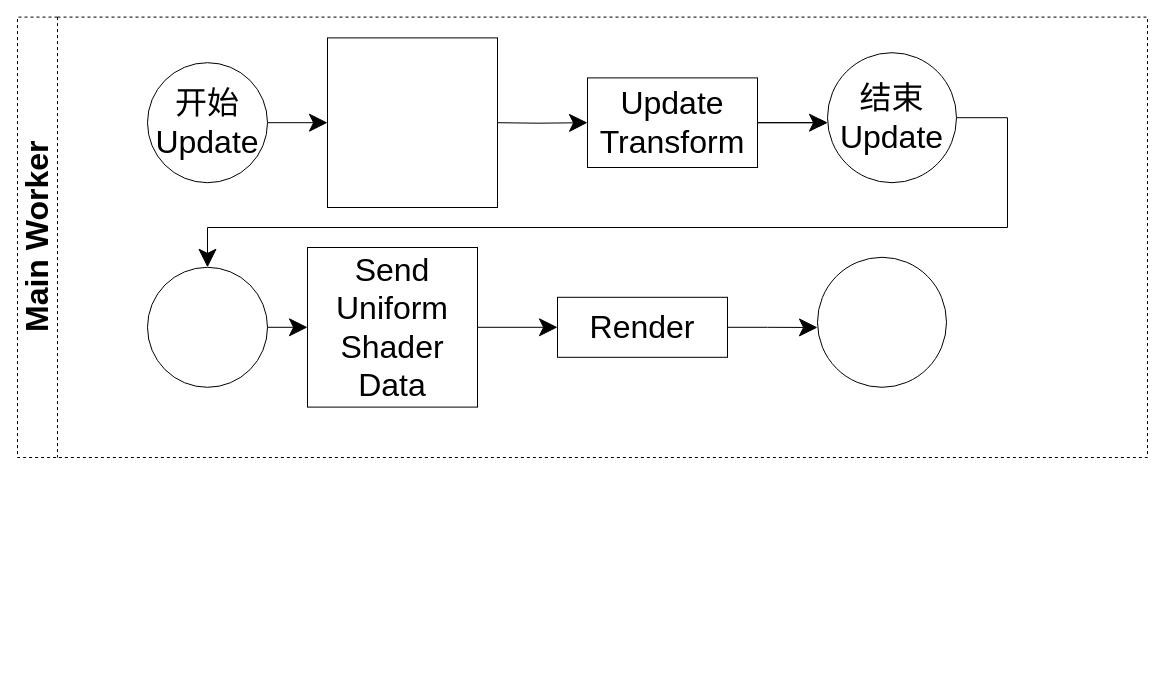
Some shapes in this 1165 by 698 pixel diagram are drawn without their labels. Each missing label, with the centre of its shape:
"Compute Physics And Update" goes at [412,122].
"开始Render" goes at [207,326].
"结束Render" goes at [881,321].
